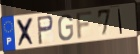7: (97, 8, 112, 38)
F: (75, 10, 95, 42)
G: (57, 13, 74, 42)
I: (117, 8, 124, 35)
P: (36, 14, 55, 46)
X: (15, 16, 36, 48)
